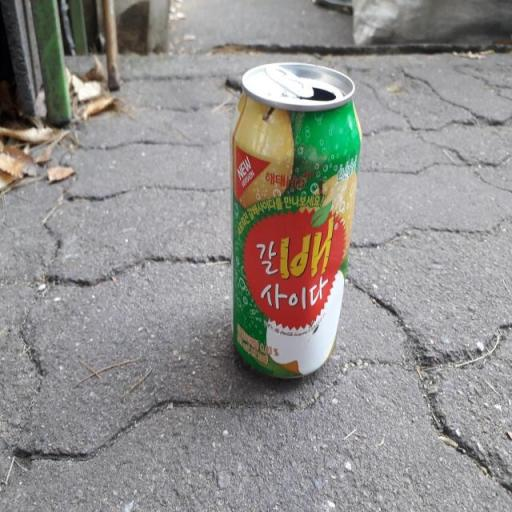metal: (225, 40, 361, 403)
